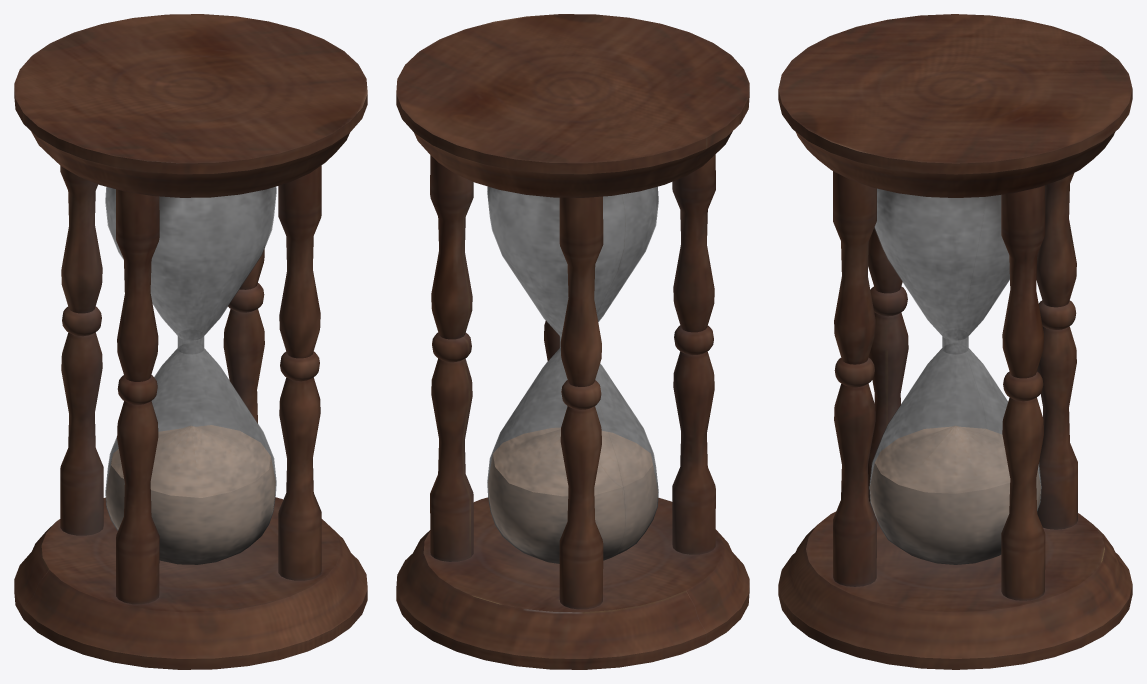
Rendered from hourglass-brass.glb.
3 views of the same model, side by side, from view 1: azimuth 30°, elevation 25°; view 2: azimuth 150°, elevation 25°; view 3: azimuth 270°, elevation 25° (orthographic).
Parts seen in each view (by area): view 1: hourglass-brass; view 2: hourglass-brass; view 3: hourglass-brass.
Boxes of the visible parts, <box> form: hourglass-brass: <box>14,14,367,669</box>; hourglass-brass: <box>396,14,749,669</box>; hourglass-brass: <box>778,14,1132,669</box>.
Bounding box in the file's own units: 0.121 × 0.1909 × 0.121.
Materials: 1 (1 with a texture image).
